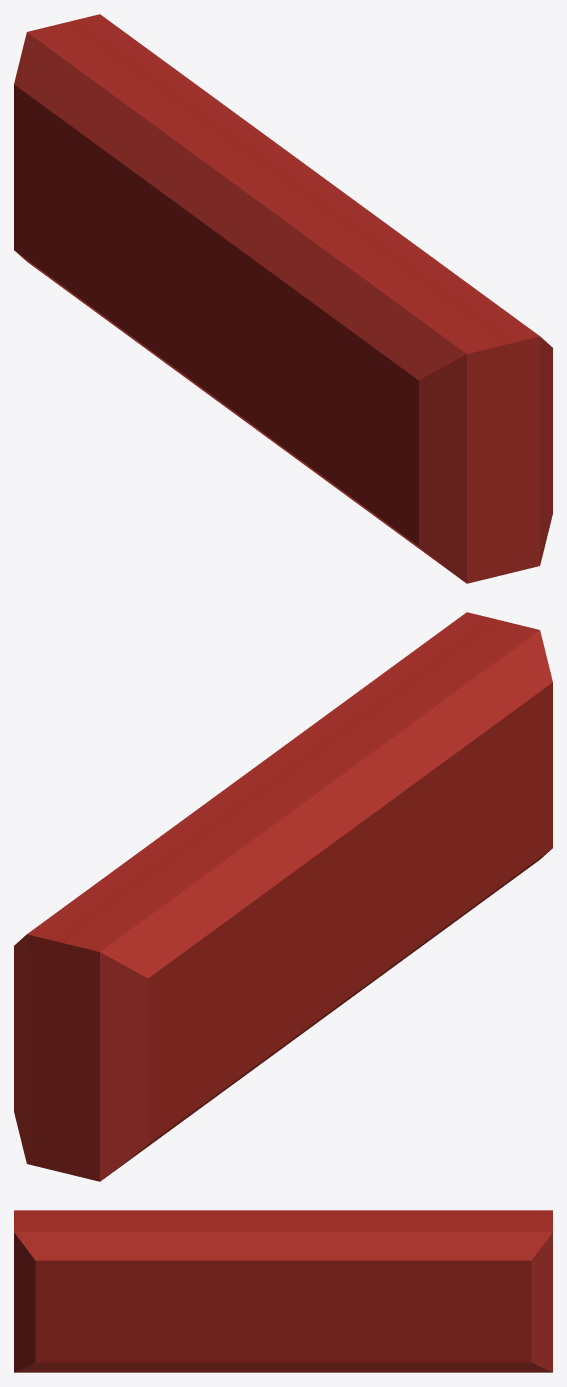
The model's file is switch_off.obj.
The picture shows the model from 3 angles, top to bottom: view 1: azimuth 30°, elevation 25°; view 2: azimuth 150°, elevation 25°; view 3: azimuth 270°, elevation 25°; orthographic projection. The views are drawn at different scales.
Parts seen in each view (by area): view 1: switch_off_handle; view 2: switch_off_handle; view 3: switch_off_handle.
Boxes of the visible parts, bbox=[...] form: switch_off_handle: bbox=[14, 14, 552, 583]; switch_off_handle: bbox=[14, 612, 552, 1181]; switch_off_handle: bbox=[14, 1210, 552, 1372].
Bounding box in the file's own units: 0.0275 × 0.045 × 0.1562.
